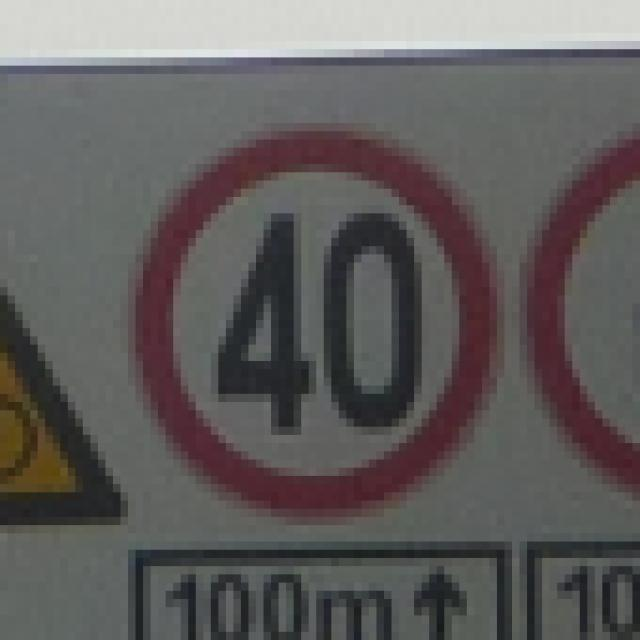Speed: (121, 117, 509, 512)
